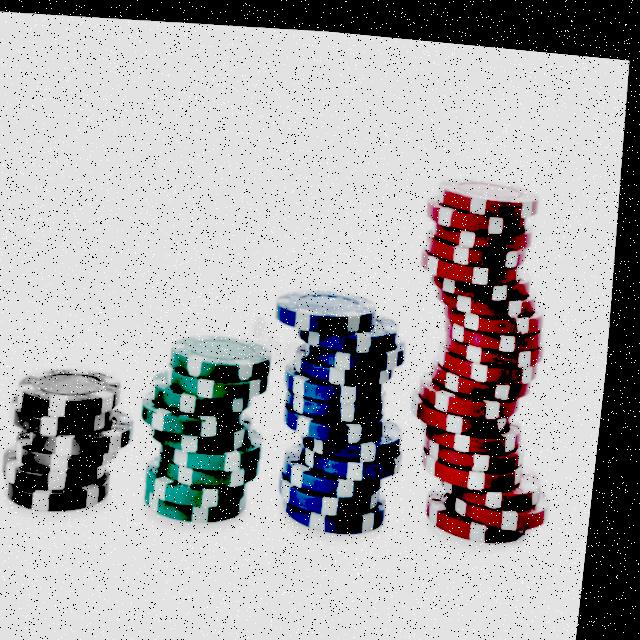Chip: (392, 146, 594, 556), (258, 241, 434, 547), (134, 290, 296, 527), (0, 343, 156, 530)
